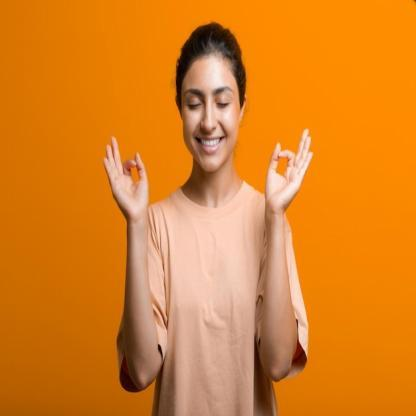ok: (263, 125, 315, 216), (102, 132, 151, 220)
